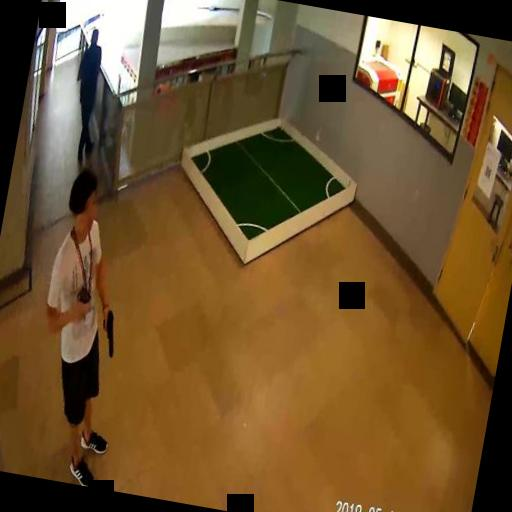Handgun: (96, 308, 119, 354)
